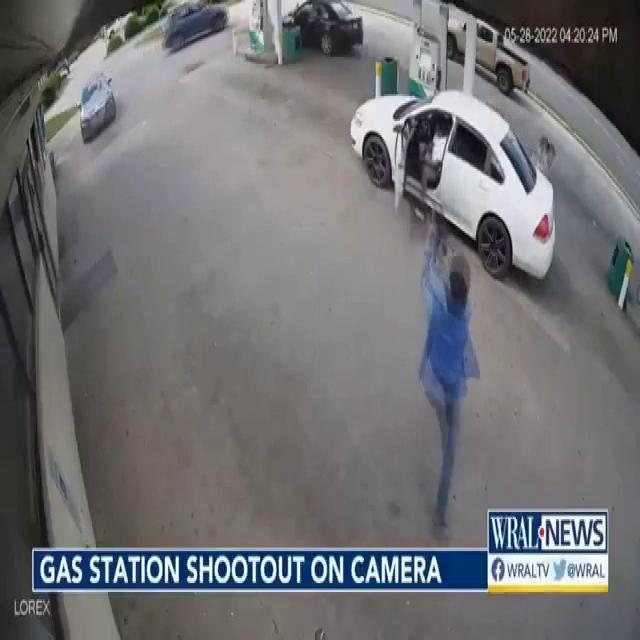penembakan: (411, 206, 479, 535)
